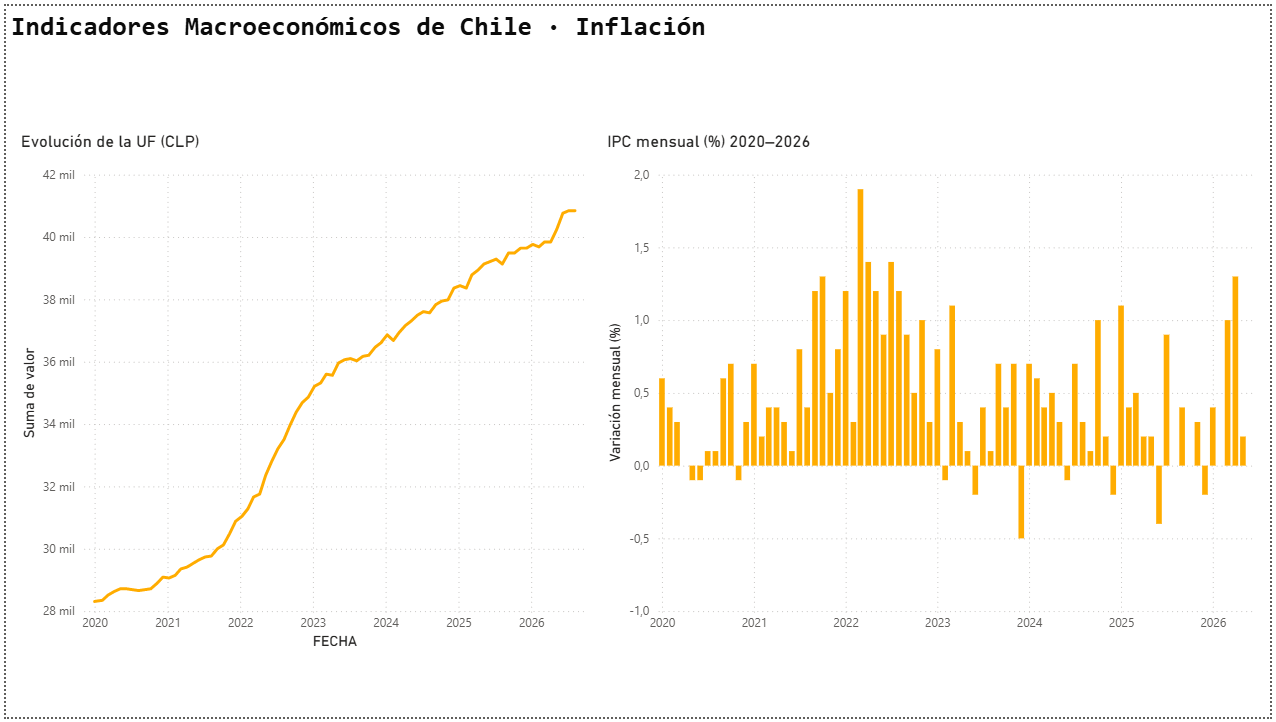

The page's visual inventory and layout, read from the dashboard file:
{"tool":"powerbi","page":{"name":"Inflación","canvas":[1280,720],"ordinal":1},"visuals":[{"type":"clusteredColumnChart","title":"IPC mensual (%) 2020–2026","fields":{"Category":["calendario.fecha"],"Y":["Sum(ipc.valor)"]},"box":[604.3,127.1,675.7,530],"z":0},{"type":"lineChart","title":"Evolución de la UF (CLP)","fields":{"Category":["calendario.fecha"],"Y":["Sum(uf.valor)"]},"box":[10,127.1,584.3,530],"z":1000},{"type":"textbox","box":[0,0,771.4,55.7],"z":2000}]}

Visuals, with their boxes in screenshot pixels (x1, y1, x2, y2), scaled from the page's 1280x720 canvas onto the 1276x722 screenshot:
"IPC mensual (%) 2020–2026" clusteredColumnChart: bbox(602, 127, 1275, 659)
"Evolución de la UF (CLP)" lineChart: bbox(10, 127, 592, 659)
textbox: bbox(0, 0, 769, 56)
